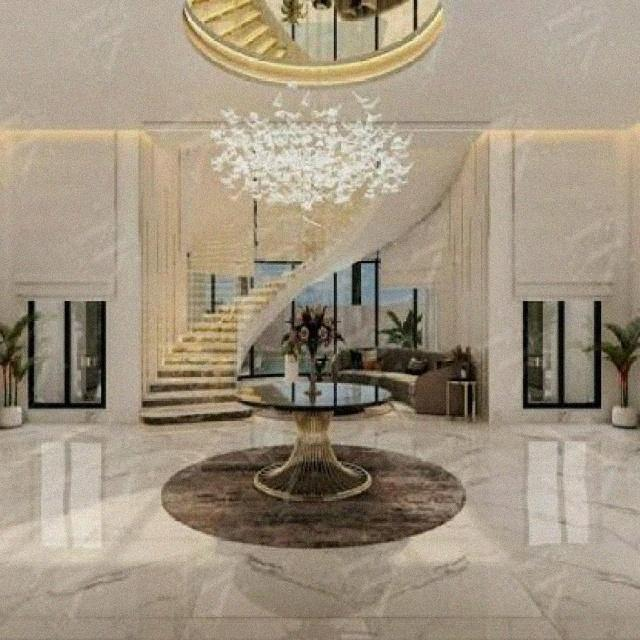stair: (95, 234, 272, 440)
